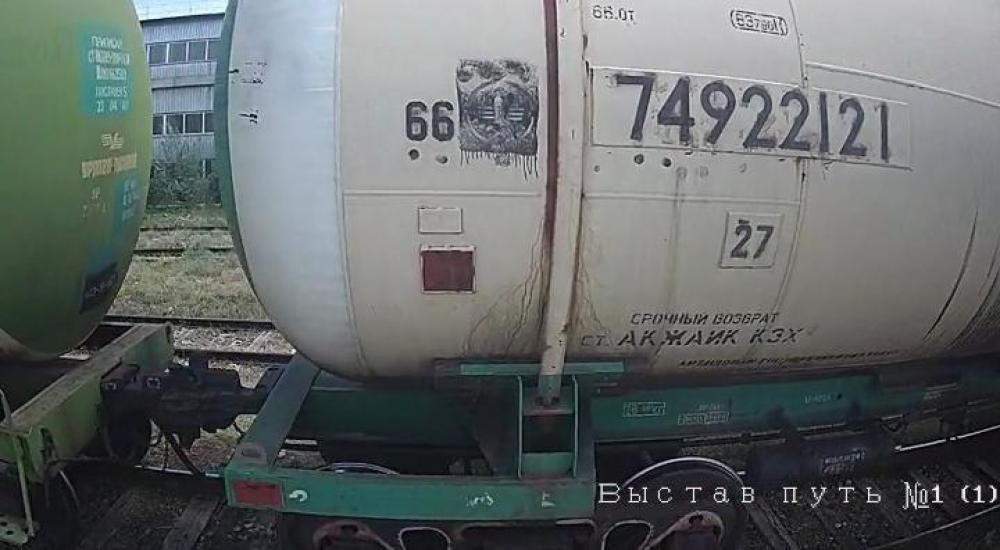Wagon-number: (605, 69, 898, 167)
